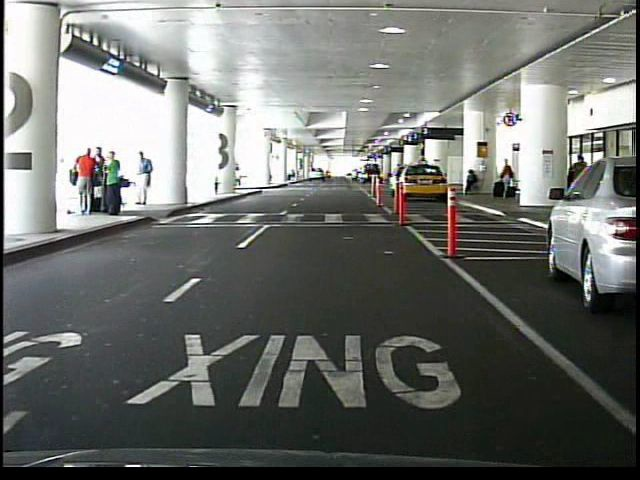person: (77, 144, 98, 216), (106, 152, 126, 219), (135, 152, 156, 209), (569, 152, 590, 206), (96, 146, 110, 211), (500, 160, 515, 202), (462, 170, 479, 197)
